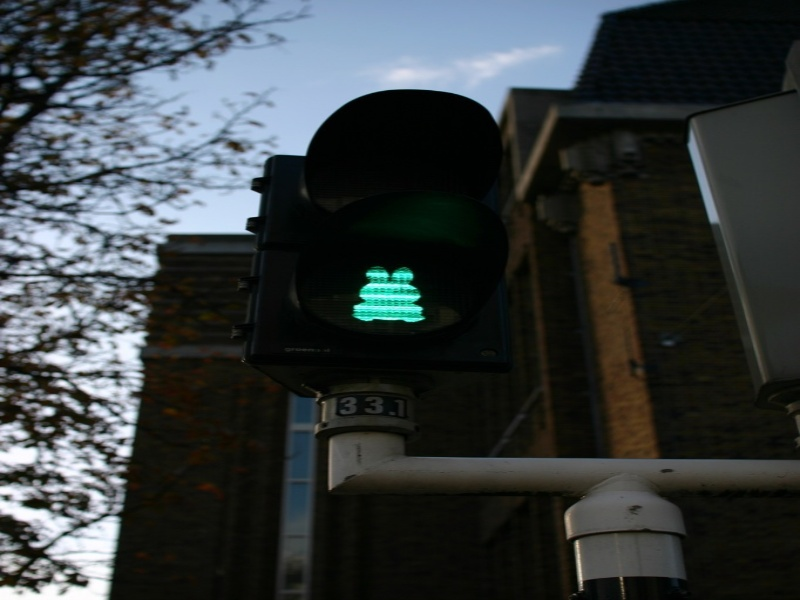green_light: (307, 219, 476, 323)
